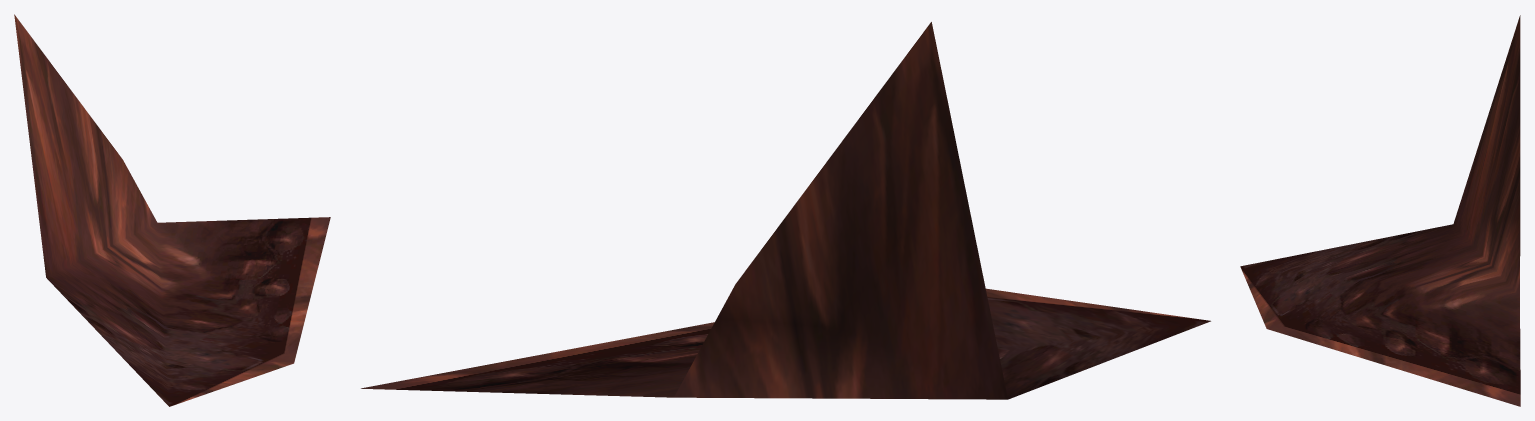
Rendered from lava_trim_endcap.fbx.
The picture shows the model from 3 angles, left to right: view 1: azimuth 30°, elevation 25°; view 2: azimuth 150°, elevation 25°; view 3: azimuth 270°, elevation 25°; orthographic projection. The views are drawn at different scales.
Parts seen in each view (by area): view 1: lava_tileset/trim_alpha; view 2: lava_tileset/trim_alpha; view 3: lava_tileset/trim_alpha.
Part boxes in pixels (box(x1,y1,x2,y2)): lava_tileset/trim_alpha: box(14, 14, 330, 406); lava_tileset/trim_alpha: box(361, 22, 1210, 399); lava_tileset/trim_alpha: box(1240, 15, 1520, 406).
Size of the model in its own units: 1.38 by 1.15 by 1.15.
